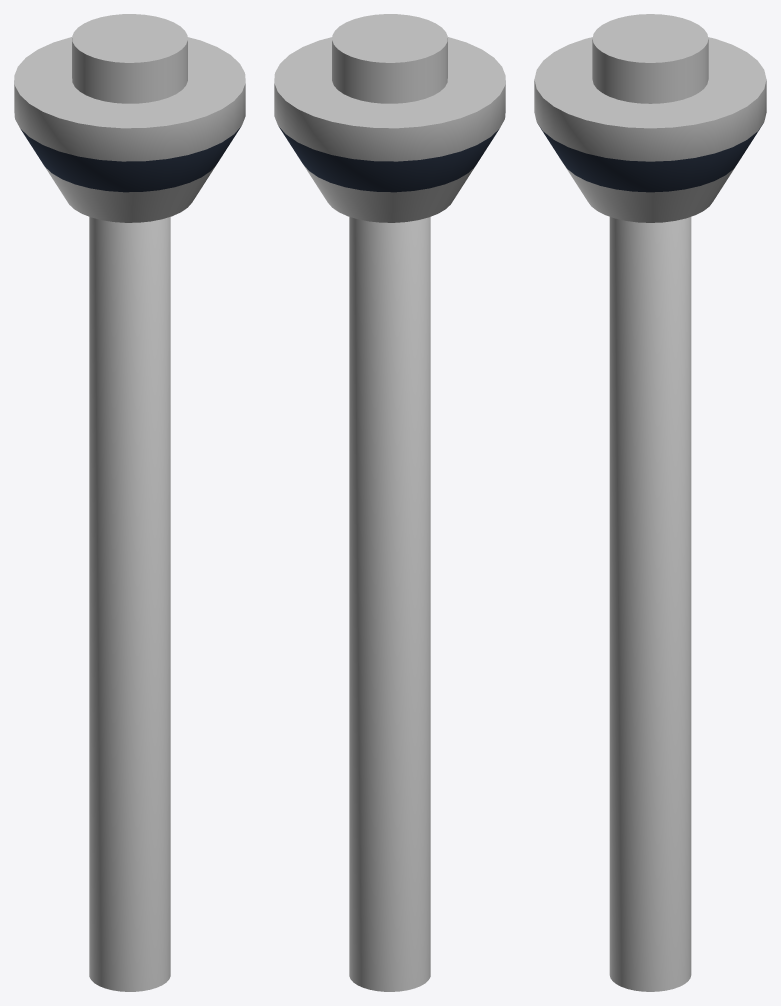
The model's file is genericatc.glb.
3 renders of one model, left to right at view 1: azimuth 30°, elevation 25°; view 2: azimuth 150°, elevation 25°; view 3: azimuth 270°, elevation 25°, orthographic.
Parts seen in each view (by area): view 1: Cylinder.001, Cylinder; view 2: Cylinder.001, Cylinder; view 3: Cylinder.001, Cylinder.
Boxes of the visible parts, x1,y1,x2,y2 form: Cylinder.001: (89, 217, 170, 991); Cylinder: (14, 14, 245, 222); Cylinder.001: (349, 217, 430, 991); Cylinder: (274, 14, 505, 222); Cylinder.001: (609, 217, 691, 991); Cylinder: (534, 14, 766, 222).
Bounding box in the file's own units: 14.43 × 64.24 × 14.43.
